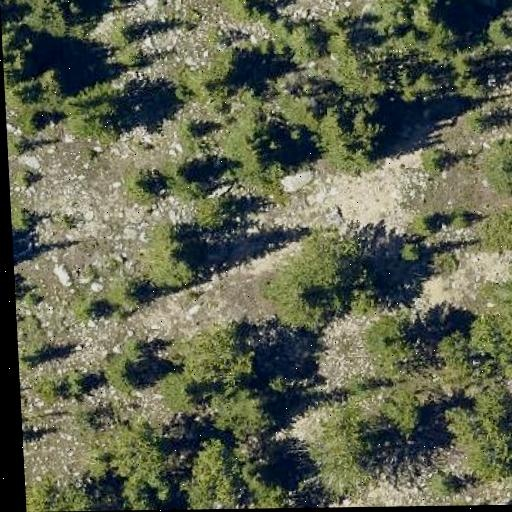tree-top: (180, 433, 288, 510), (302, 402, 385, 495), (258, 248, 346, 328), (156, 324, 257, 392), (441, 394, 512, 479), (463, 284, 512, 384), (133, 220, 202, 286), (322, 107, 397, 167), (198, 385, 274, 440), (357, 314, 424, 376), (373, 0, 459, 41), (230, 116, 290, 171), (121, 449, 174, 511), (191, 43, 248, 100), (324, 28, 375, 86), (26, 475, 98, 512), (74, 94, 125, 146), (475, 134, 512, 201), (2, 30, 43, 89), (378, 407, 429, 450), (35, 59, 77, 100), (104, 346, 148, 385), (276, 22, 320, 60), (451, 52, 487, 95), (168, 162, 209, 199), (32, 0, 88, 24), (114, 174, 162, 201), (210, 0, 272, 17), (489, 11, 512, 45), (445, 496, 493, 506)
